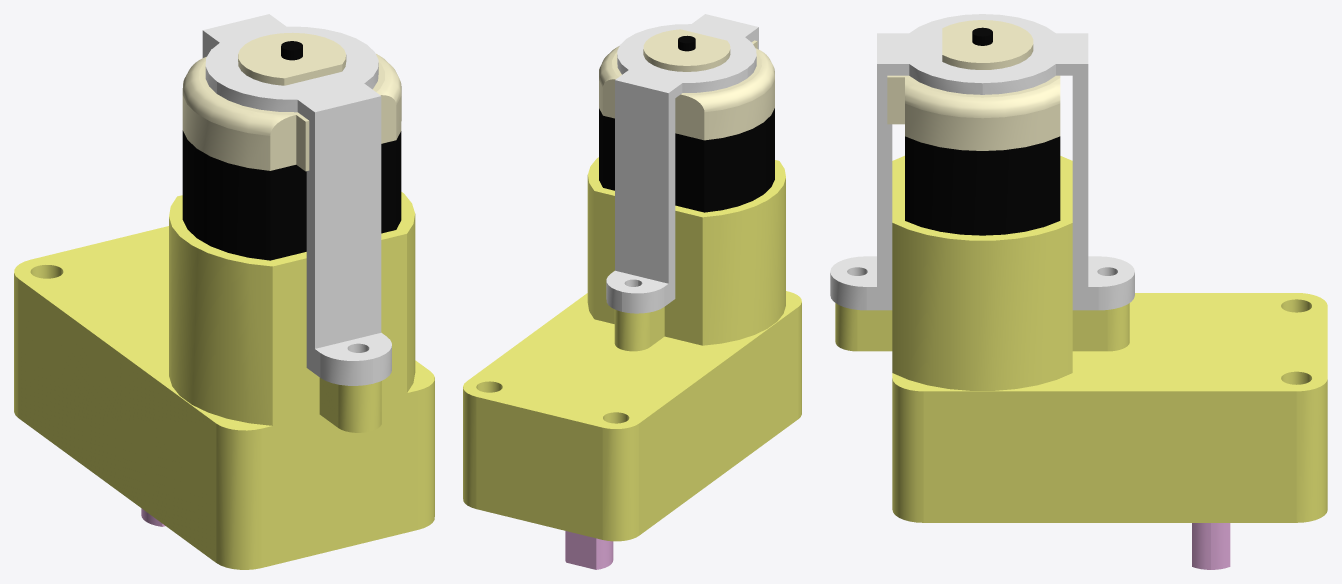
The picture shows the model from 3 angles, left to right: view 1: azimuth 30°, elevation 25°; view 2: azimuth 150°, elevation 25°; view 3: azimuth 270°, elevation 25°; orthographic projection. The views are drawn at different scales.
Parts seen in each view (by area): view 1: 1_1_0.25_0, 1_1_1_0.85, 1_0.9166666666666666_0.6666666666666666_0, 0_0_0_0; view 2: 1_1_0.25_0, 1_1_1_0.85, 1_0.9166666666666666_0.6666666666666666_0, 0_0_0_0, 1_0.5_0.9166666666666666_0; view 3: 1_1_0.25_0, 1_1_1_0.85, 1_0.9166666666666666_0.6666666666666666_0, 0_0_0_0, 1_0.5_0.9166666666666666_0.
Boxes of the visible parts, <box> form: 1_1_0.25_0: <box>14,192,434,569</box>; 1_1_1_0.85: <box>202,14,391,385</box>; 1_0.9166666666666666_0.6666666666666666_0: <box>182,32,401,171</box>; 0_0_0_0: <box>182,41,401,260</box>; 1_1_0.25_0: <box>463,157,801,541</box>; 1_1_1_0.85: <box>606,14,758,313</box>; 1_0.9166666666666666_0.6666666666666666_0: <box>599,29,774,140</box>; 0_0_0_0: <box>599,35,774,212</box>; 1_0.5_0.9166666666666666_0: <box>565,531,613,569</box>; 1_1_0.25_0: <box>835,155,1327,522</box>; 1_1_1_0.85: <box>830,14,1134,310</box>; 1_0.9166666666666666_0.6666666666666666_0: <box>887,20,1060,150</box>; 0_0_0_0: <box>905,27,1060,235</box>; 1_0.5_0.9166666666666666_0: <box>1192,523,1230,569</box>.
Bounding box in the file's own units: 2.25 × 5.6 × 4.8.
